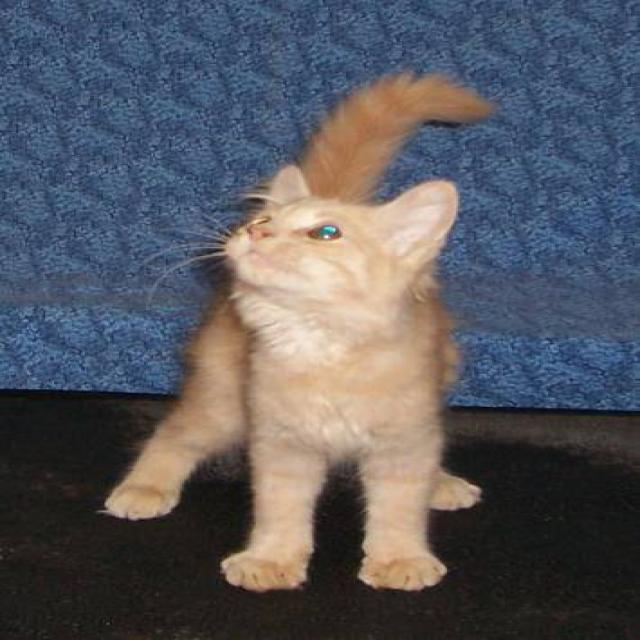cat: (96, 68, 496, 594)
